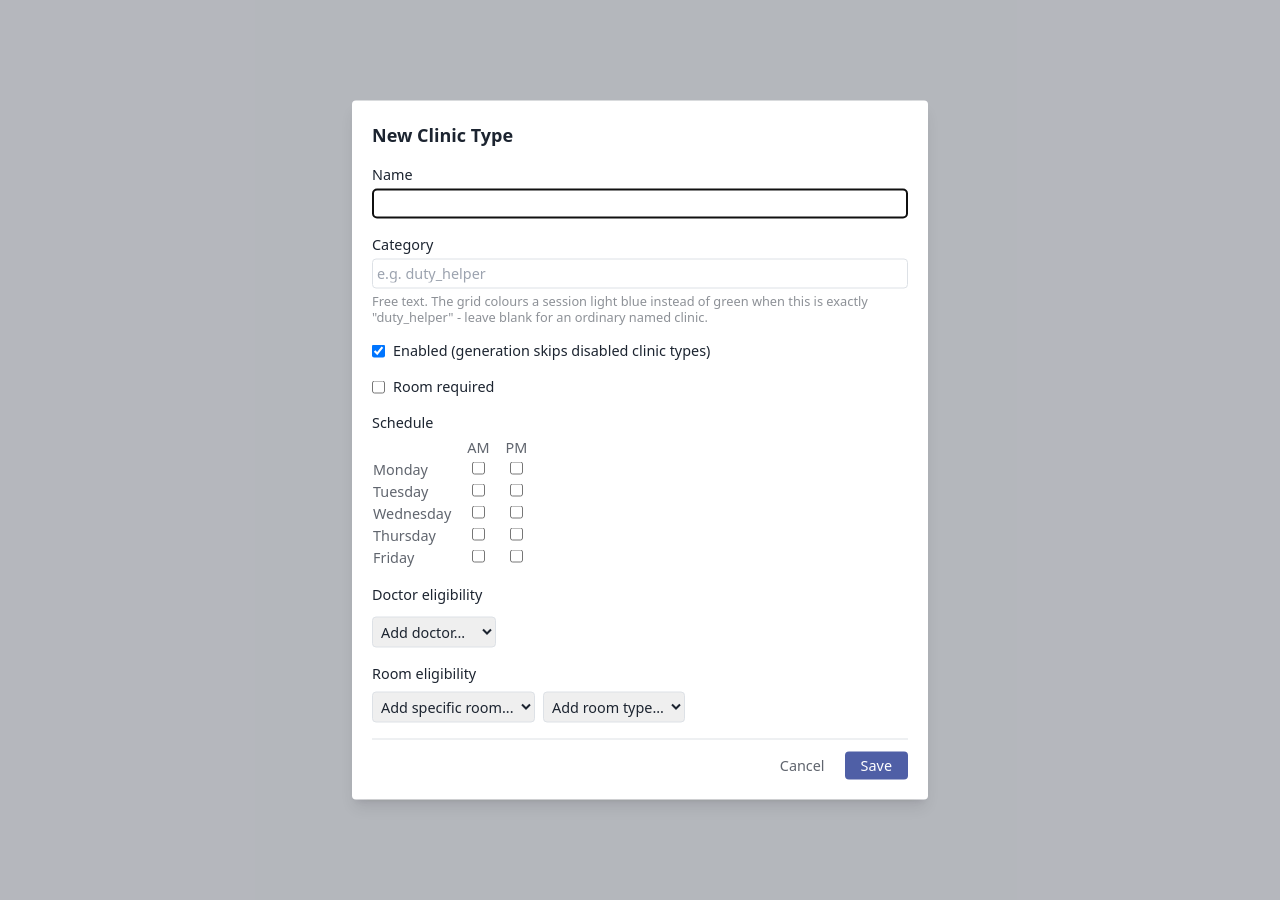
ClinicTypeFormDialog - create mode › adding a doctor removes them from the add-select (can't add the same doctor twice)
Select "AB" in the dropdown named "Add doctor". click: (434, 632)
box: [372,616,496,648]
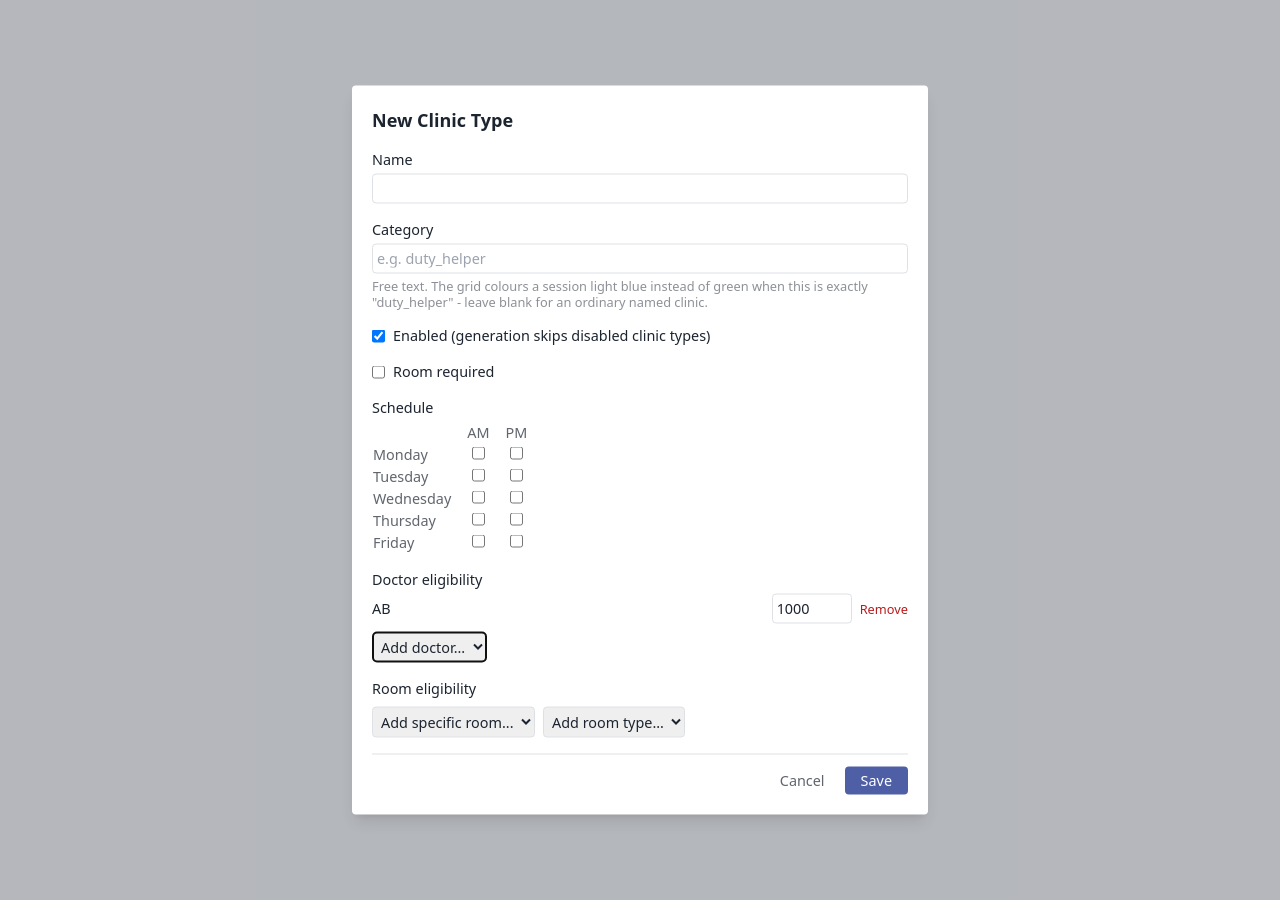
Expected: the text "AB" is shown, [372,598,391,618]
